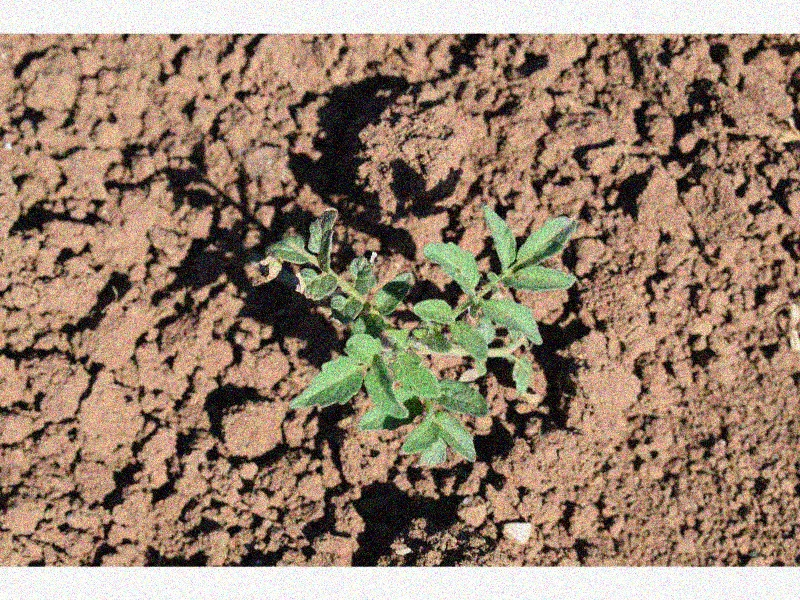tomato: (267, 204, 577, 471)
